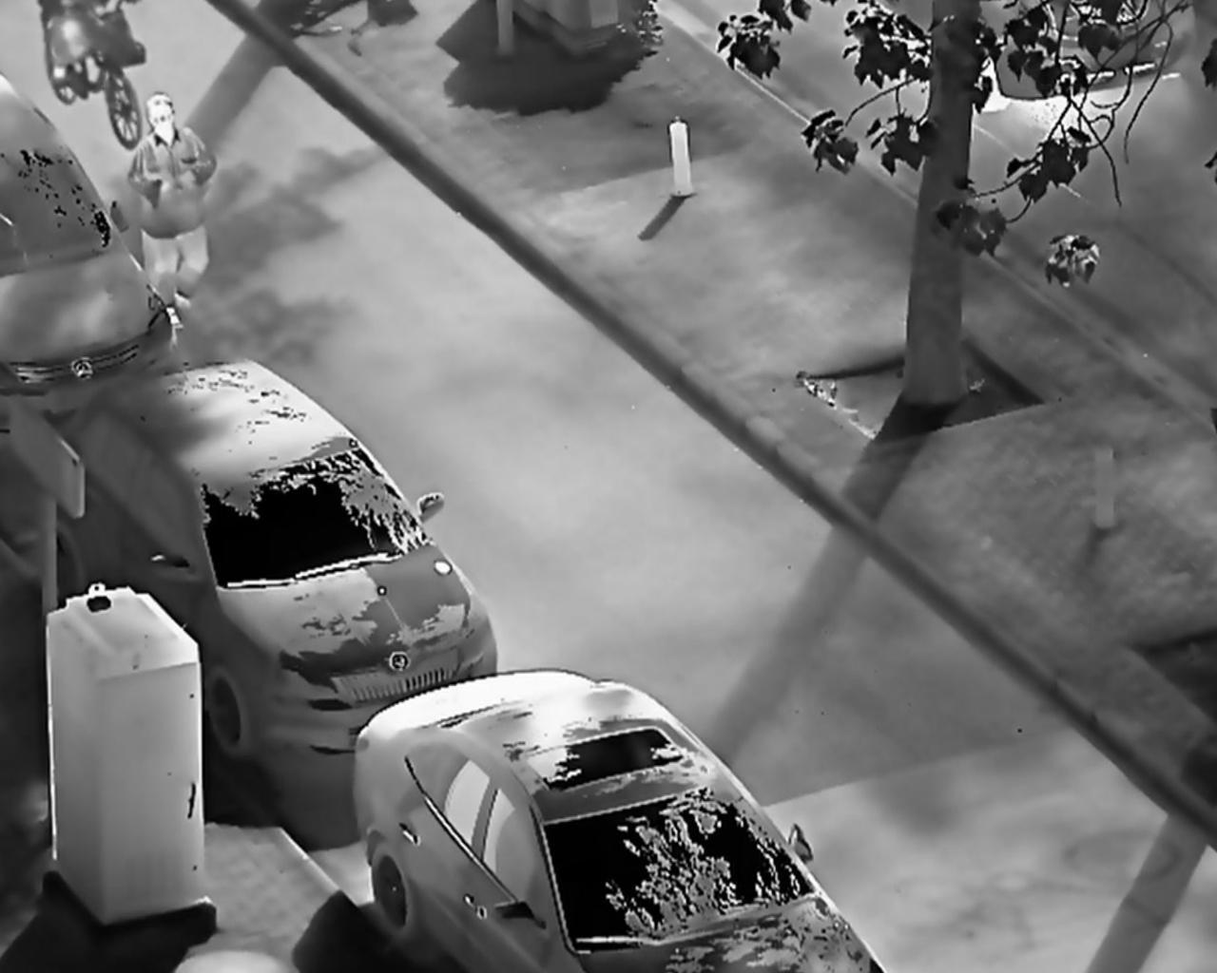person: (125, 91, 219, 338)
